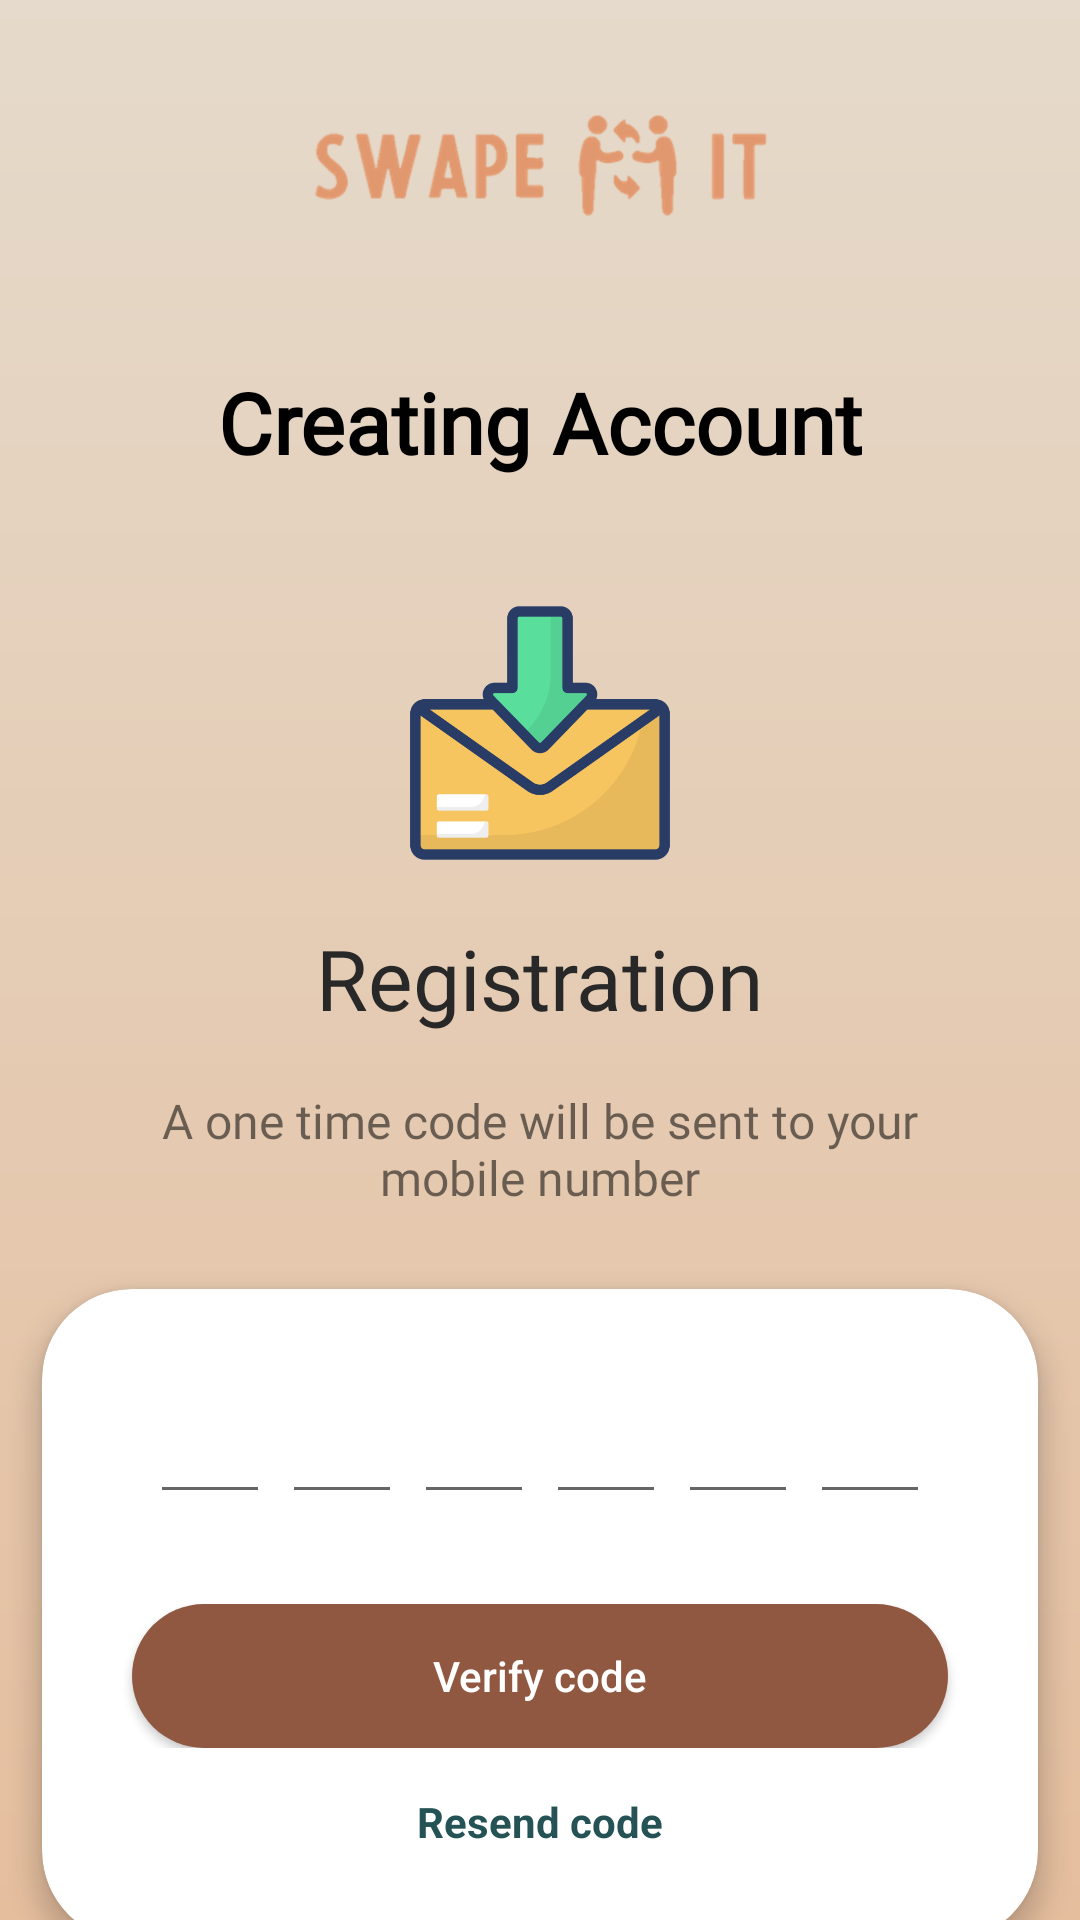

Screen size 1080×1920. Icon name, then its center in pixels as (x=x, y=y):
receive: (x=540, y=733)
